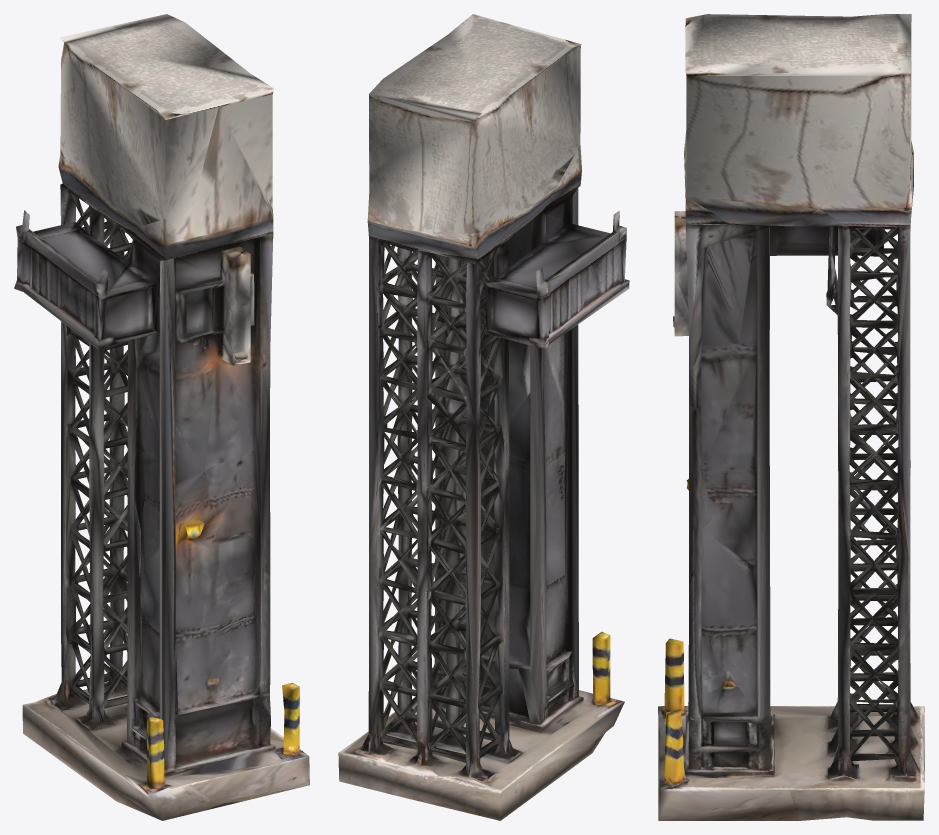
The model's file is portalColumn.glb.
3 renders of one model, left to right at view 1: azimuth 30°, elevation 25°; view 2: azimuth 150°, elevation 25°; view 3: azimuth 270°, elevation 25°, orthographic. The views are drawn at different scales.
Visible parts, largest first — view 1: portalColumn; view 2: portalColumn; view 3: portalColumn.
Boxes of the visible parts, x1,y1,x2,y2 form: portalColumn: (14,14,309,820); portalColumn: (338,14,629,820); portalColumn: (658,14,924,820).
Size of the model in its own units: 6.3 by 22 by 7.2.
Materials: 1 (1 with a texture image).
